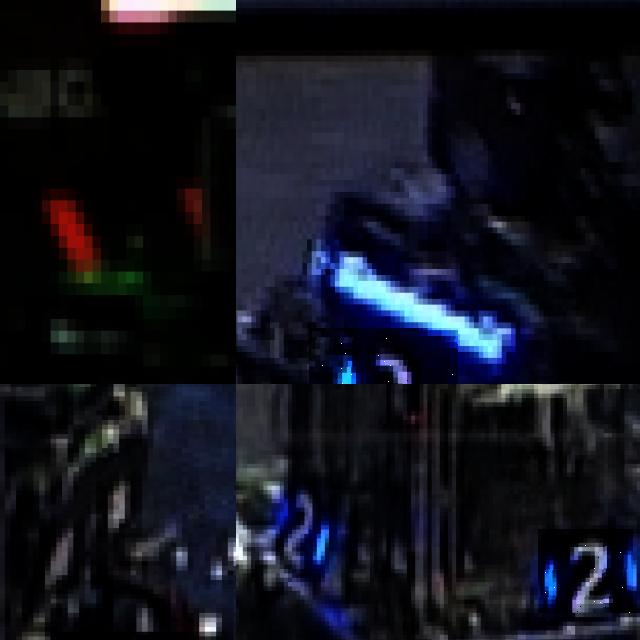B2: (538, 529, 633, 613), (272, 482, 329, 574)
B3: (309, 328, 457, 384)
